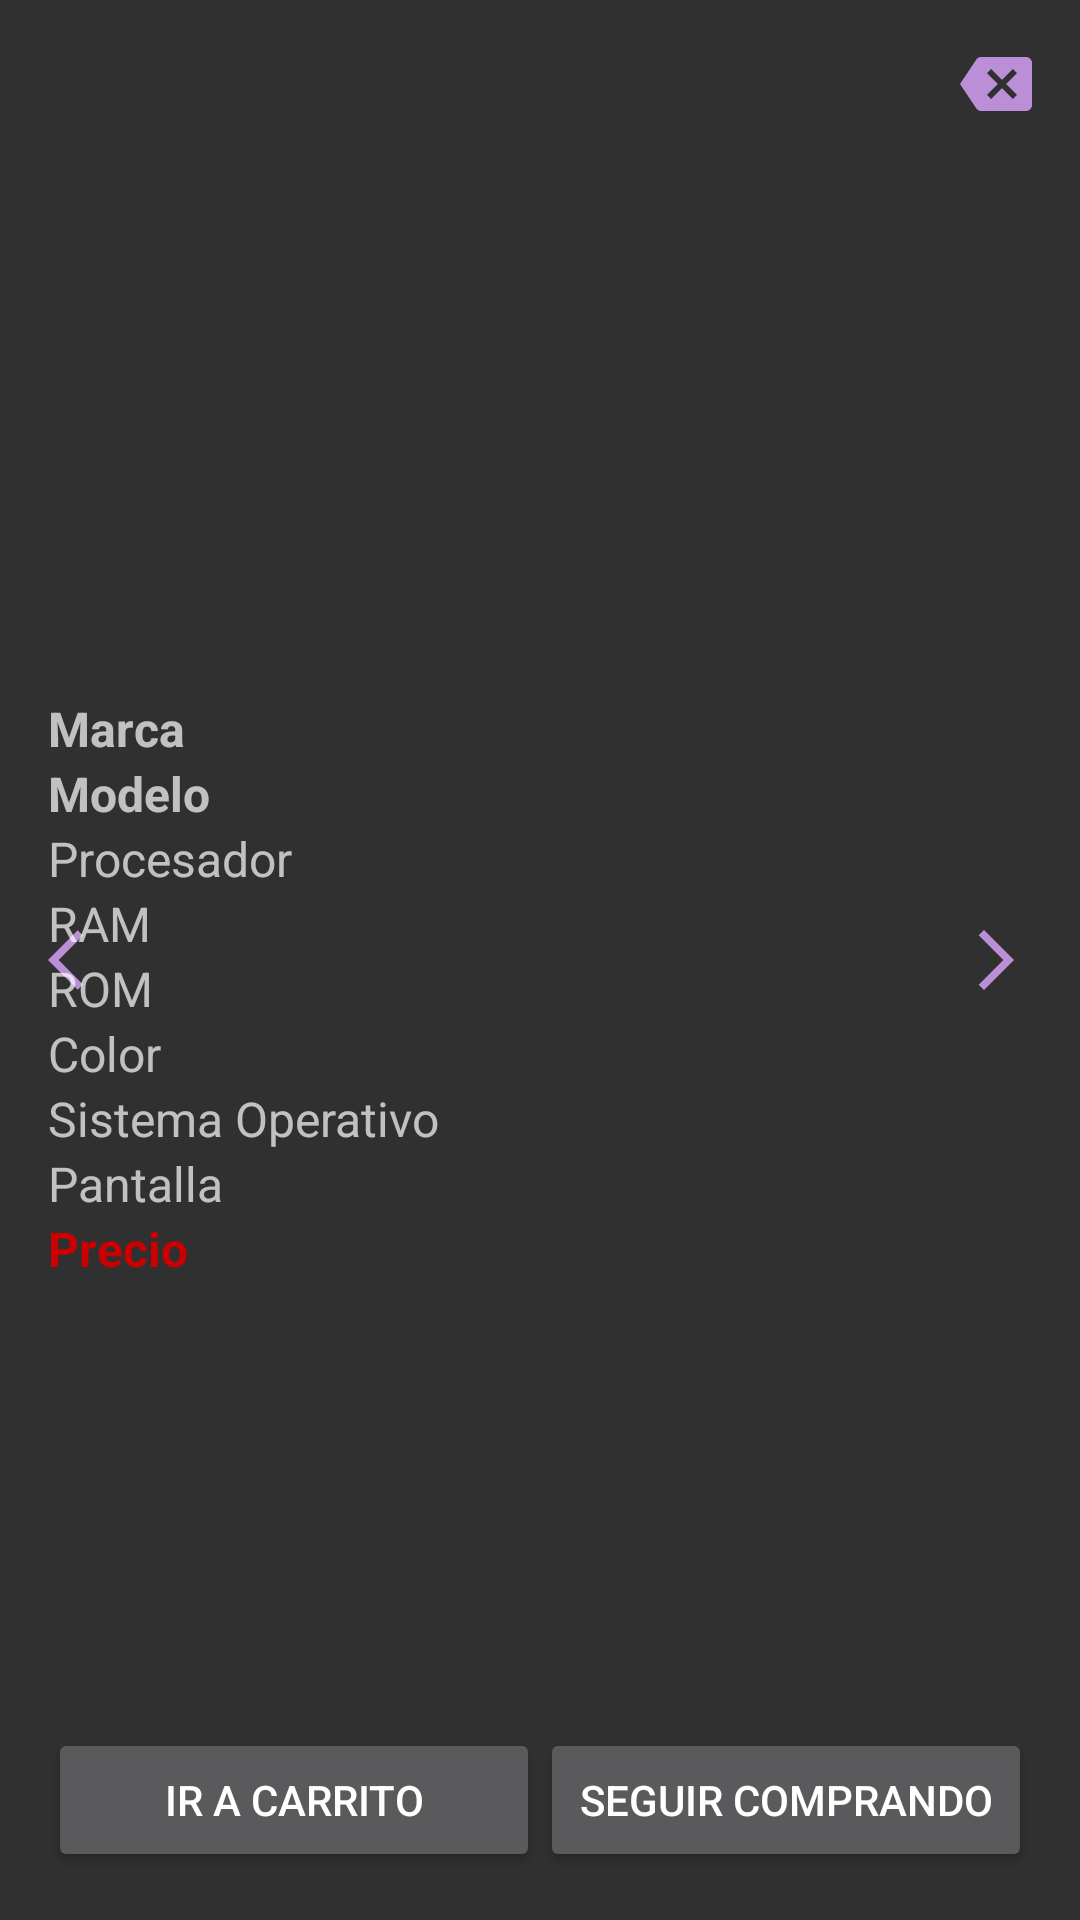

Where to tap for icons on this 1080px×1920px app screen, as [x,y]:
Next: [996,960]
